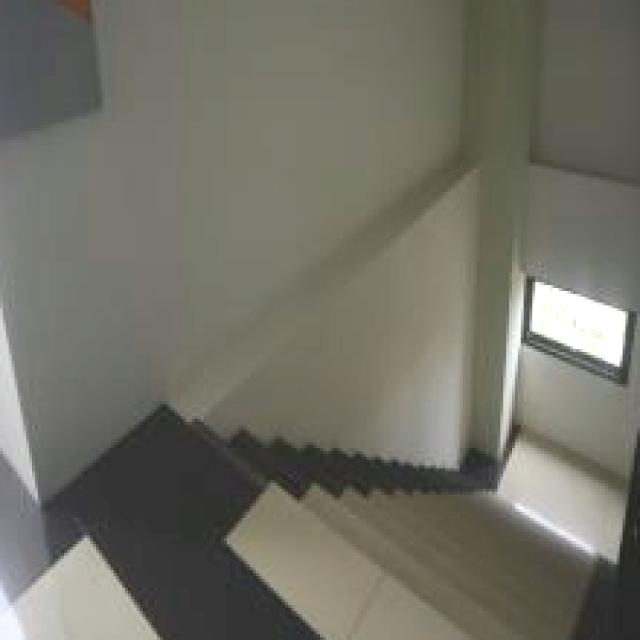downstair: (228, 437, 638, 640)
